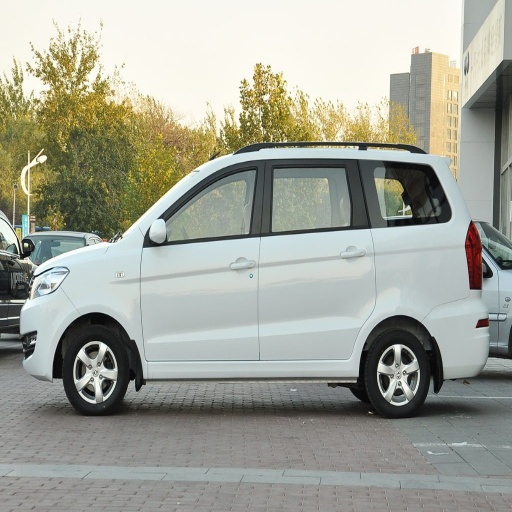back_left_door: (262, 159, 376, 360)
front_left_door: (141, 160, 265, 363)
trunk: (430, 319, 481, 373)
